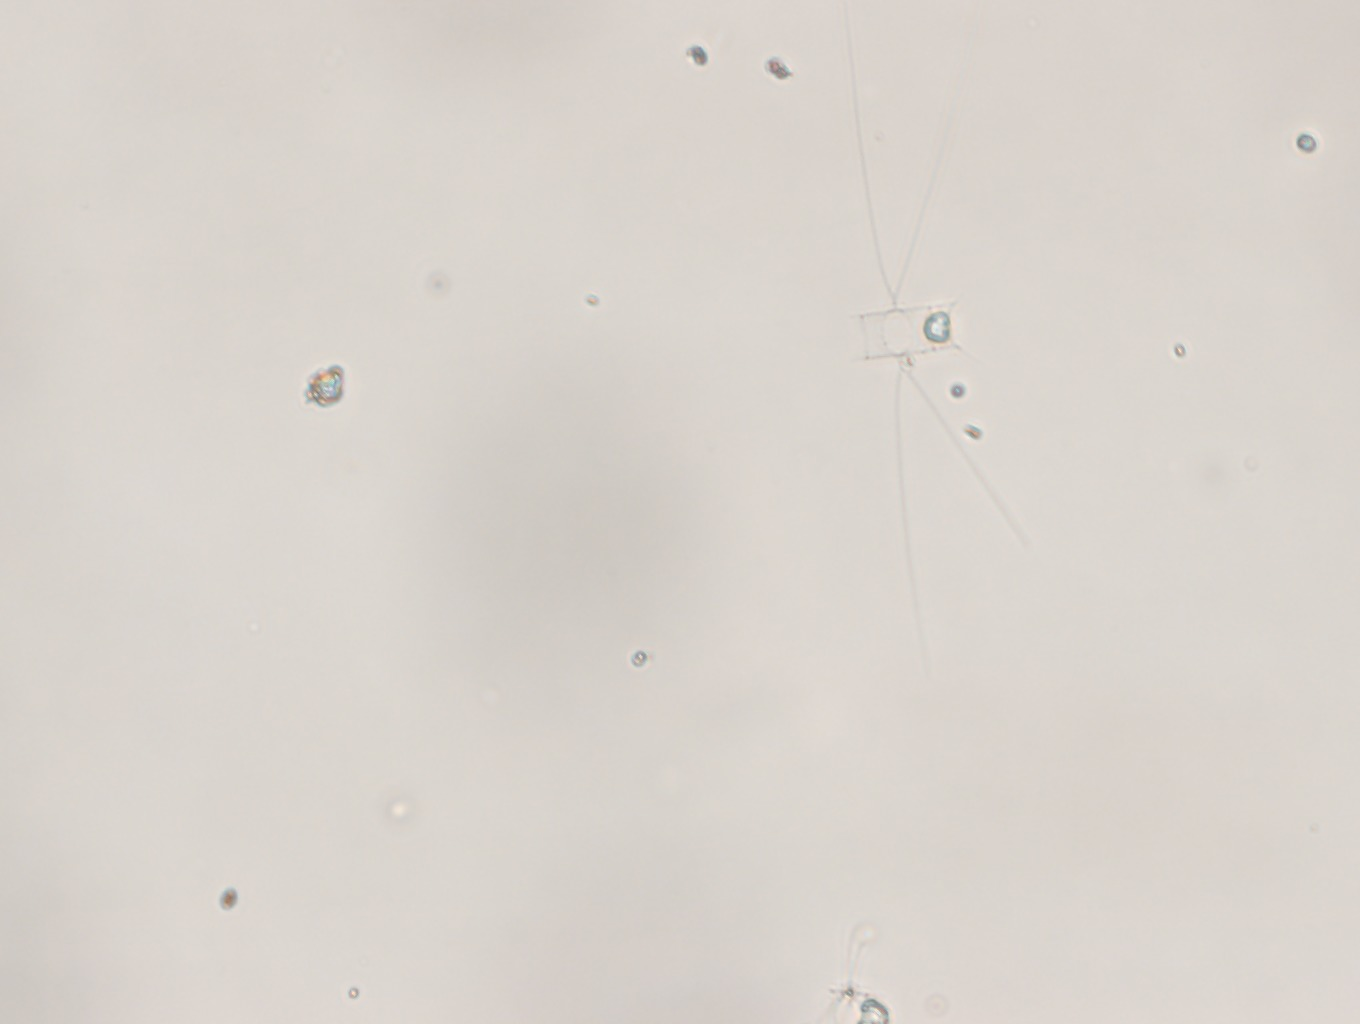chaetoceros: (830, 13, 1053, 680)
